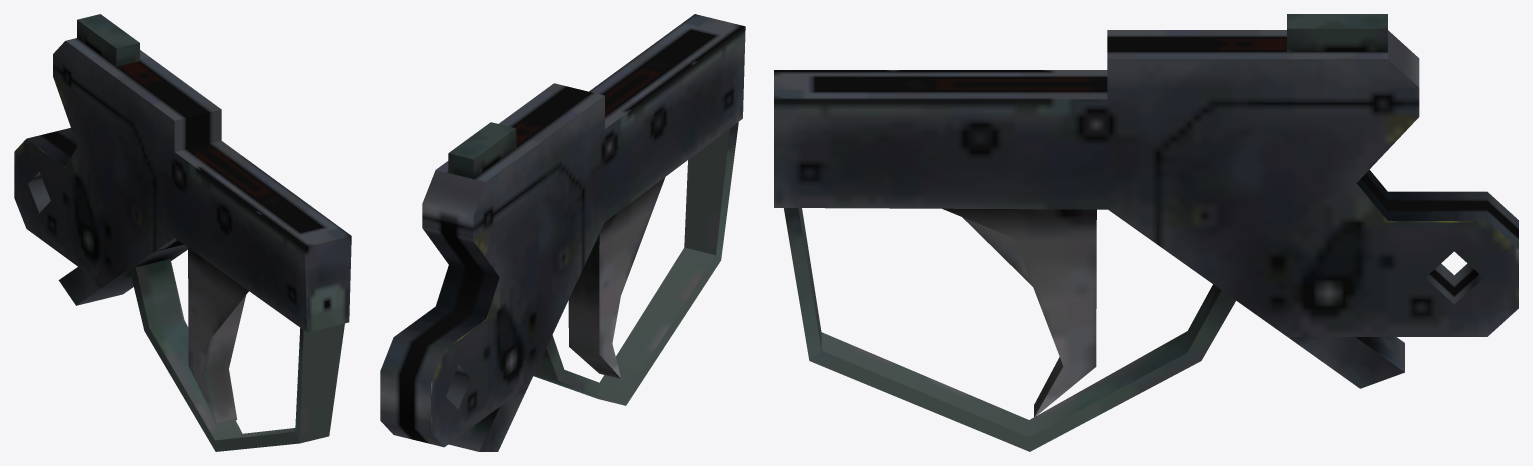
Rendered from eqp_comp_weapon_trigger_s02_l1.fbx.
The picture shows the model from 3 angles, left to right: view 1: azimuth 30°, elevation 25°; view 2: azimuth 150°, elevation 25°; view 3: azimuth 270°, elevation 25°; orthographic projection. The views are drawn at different scales.
Visible parts, largest first — view 1: mesh_node; view 2: mesh_node; view 3: mesh_node.
Part boxes in pixels (x1,y1,x2,y2): mesh_node: (14, 14, 351, 451); mesh_node: (380, 14, 745, 451); mesh_node: (774, 14, 1518, 451).
Size of the model in its own units: 0.00523 by 0.0351 by 0.0561.
